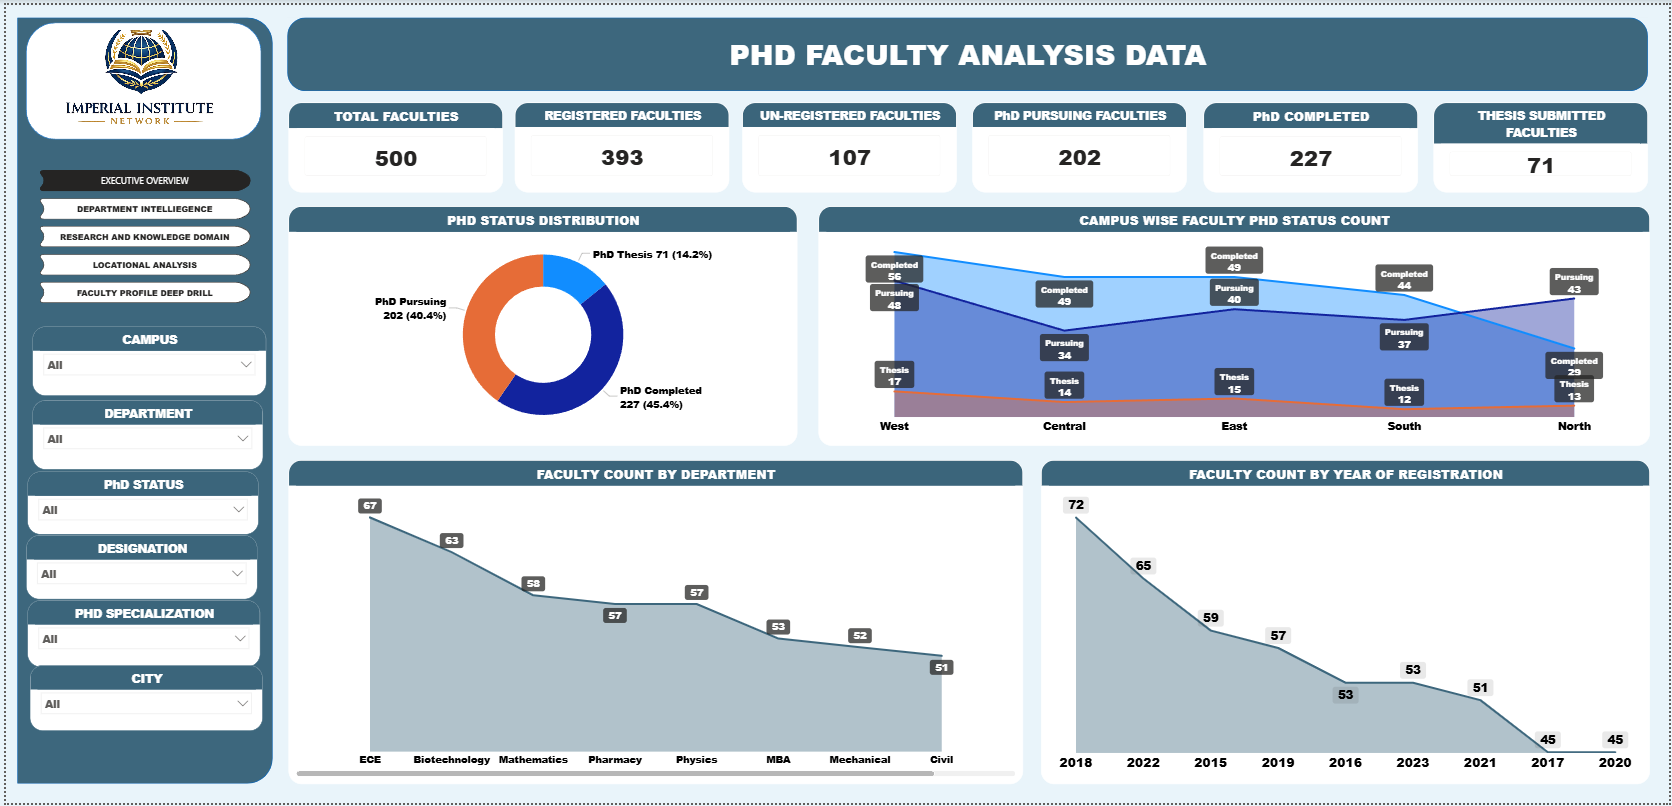

The dashboard page shown, as its layout file describes it:
{"tool":"powerbi","page":{"name":"EXECUTIVE OVERVIEW","canvas":[2500,1250],"ordinal":0},"visuals":[{"type":"group","id":"g1","title":"Group 6","box":[16.2,19,2453.7,1152],"z":0},{"type":"group","id":"g2","title":"Group 4","box":[16.2,19,383.9,1151.6],"z":0,"group":"g6"},{"type":"shape","box":[16.2,19,383.9,1151.6],"z":0,"group":"g2"},{"type":"shape","box":[423.2,19.7,2044.8,110.7],"z":0,"group":"g4"},{"type":"group","id":"g3","title":"Group 5","box":[423.5,147,2044.2,135.1],"z":0,"group":"g1"},{"type":"slicer","title":"CAMPUS","fields":{"Values":["PhD Faculty Data.CAMPUS"]},"box":[38.3,482.5,351.8,105.1],"z":0,"group":"g5"},{"type":"group","id":"g4","title":"Group 8","box":[423.2,19.7,2044.8,110.7],"z":1000},{"type":"cardVisual","title":"TOTAL FACULTIES","fields":{"Data":["Count(PhD Faculty Data.SR.NO)"]},"box":[423.5,147,322.6,135.1],"z":1000,"group":"g3"},{"type":"donutChart","title":"PHD STATUS DISTRIBUTION","fields":{"Y":["PhD Faculty Data.PhD Thesis","PhD Faculty Data.PhD Completed","PhD Faculty Data.PhD Pursuing"]},"box":[423.5,303,765.2,359.7],"z":1000,"group":"g1"},{"type":"slicer","title":"DEPARTMENT","fields":{"Values":["PhD Faculty Data.DEPARTMENT"]},"box":[38.6,593.2,347.1,105.1],"z":1000,"group":"g5"},{"type":"cardVisual","title":"REGISTERED FACULTIES","fields":{"Data":["PhD Faculty Data.Registered"]},"box":[763,147,322.6,135.1],"z":2000,"group":"g3"},{"type":"pageNavigator","box":[45.9,248.5,327.9,202.6],"z":2000},{"type":"slicer","title":"PhD STATUS","fields":{"Values":["PhD Faculty Data.PHD STATUS"]},"box":[30.7,699.9,348.3,95.2],"z":2000,"group":"g5"},{"type":"shape","box":[29.3,25.4,353.7,175.9],"z":3000},{"type":"cardVisual","title":"UN-REGISTERED FACULTIES","fields":{"Data":["PhD Faculty Data.Not Registered"]},"box":[1104.9,147,322.6,135.1],"z":3000,"group":"g3"},{"type":"lineChart","title":"FACULTY COUNT BY YEAR OF REGISTRATION","fields":{"Category":["PhD Faculty Data.YEAR OF REGISTRATION"],"Y":["Count(PhD Faculty Data.SR.NO)"]},"box":[1554.4,683.7,915.5,487.3],"z":3000,"group":"g1"},{"type":"slicer","title":"DESIGNATION","fields":{"Values":["PhD Faculty Data.DESIGNATION"]},"box":[29.2,796.4,348.3,96.6],"z":3000,"group":"g5"},{"type":"cardVisual","title":"PhD PURSUING FACULTIES","fields":{"Data":["PhD Faculty Data.PhD Pursuing"]},"box":[1451.6,147,322.6,135.1],"z":4000,"group":"g3"},{"type":"lineChart","title":"CAMPUS WISE FACULTY PHD STATUS COUNT","fields":{"Category":["PhD Faculty Data.CAMPUS"],"Y":["PhD Faculty Data.PhD Completed","PhD Faculty Data.PhD Pursuing","PhD Faculty Data.PhD Thesis"]},"box":[1220.1,303,1249.9,359.7],"z":4000,"group":"g1"},{"type":"group","id":"g5","title":"Group 2","box":[29.2,482.5,361.3,609.9],"z":4000},{"type":"image","box":[39.7,37.6,327.9,150.4],"z":5000},{"type":"cardVisual","title":"PhD COMPLETED","fields":{"Data":["PhD Faculty Data.PhD Completed"]},"box":[1798.4,147,322.6,135.1],"z":5000,"group":"g3"},{"type":"lineChart","title":"FACULTY COUNT BY DEPARTMENT","fields":{"Category":["PhD Faculty Data.DEPARTMENT"],"Y":["Count(PhD Faculty Data.SR.NO)"]},"box":[423.5,683.7,1104,487.3],"z":5000,"group":"g1"},{"type":"slicer","title":"PHD SPECIALIZATION","fields":{"Values":["PhD Faculty Data.PhD SPECIALIZATION"]},"box":[30.6,894.4,350.6,100.9],"z":5000,"group":"g5"},{"type":"textbox","box":[178.6,1186.5,566.8,64],"z":5001},{"type":"textbox","box":[485.2,38.4,1922.4,74.7],"z":5002,"group":"g4"},{"type":"group","id":"g6","title":"Group 7","box":[16.2,19,383.9,1151.6],"z":6000,"group":"g1"},{"type":"cardVisual","title":"THESIS SUBMITTED FACULTIES","fields":{"Data":["PhD Faculty Data.PhD Thesis"]},"box":[2145.1,147,322.6,135.1],"z":6000,"group":"g3"},{"type":"slicer","title":"CITY","fields":{"Values":["PhD Faculty Data.CITY"]},"box":[34.1,991.1,350.6,99.5],"z":6000,"group":"g5"}]}

Visuals, with their boxes on the page's 2500x1250 design canvas (x1, y1, x2, y2). These are canvas units, not pixel positions in the 1672x806 screenshot, which may show the page scaled, cropped or inside an application window:
"Group 6" group: detection(16, 19, 2470, 1171)
"Group 4" group: detection(16, 19, 400, 1171)
shape: detection(16, 19, 400, 1171)
shape: detection(423, 20, 2468, 130)
"Group 5" group: detection(424, 147, 2468, 282)
"CAMPUS" slicer: detection(38, 482, 390, 588)
"Group 8" group: detection(423, 20, 2468, 130)
"TOTAL FACULTIES" cardVisual: detection(424, 147, 746, 282)
"PHD STATUS DISTRIBUTION" donutChart: detection(424, 303, 1189, 663)
"DEPARTMENT" slicer: detection(39, 593, 386, 698)
"REGISTERED FACULTIES" cardVisual: detection(763, 147, 1086, 282)
pageNavigator: detection(46, 248, 374, 451)
"PhD STATUS" slicer: detection(31, 700, 379, 795)
shape: detection(29, 25, 383, 201)
"UN-REGISTERED FACULTIES" cardVisual: detection(1105, 147, 1428, 282)
"FACULTY COUNT BY YEAR OF REGISTRATION" lineChart: detection(1554, 684, 2470, 1171)
"DESIGNATION" slicer: detection(29, 796, 378, 893)
"PhD PURSUING FACULTIES" cardVisual: detection(1452, 147, 1774, 282)
"CAMPUS WISE FACULTY PHD STATUS COUNT" lineChart: detection(1220, 303, 2470, 663)
"Group 2" group: detection(29, 482, 390, 1092)
image: detection(40, 38, 368, 188)
"PhD COMPLETED" cardVisual: detection(1798, 147, 2121, 282)
"FACULTY COUNT BY DEPARTMENT" lineChart: detection(424, 684, 1528, 1171)
"PHD SPECIALIZATION" slicer: detection(31, 894, 381, 995)
textbox: detection(179, 1186, 745, 1250)
textbox: detection(485, 38, 2408, 113)
"Group 7" group: detection(16, 19, 400, 1171)
"THESIS SUBMITTED FACULTIES" cardVisual: detection(2145, 147, 2468, 282)
"CITY" slicer: detection(34, 991, 385, 1091)
